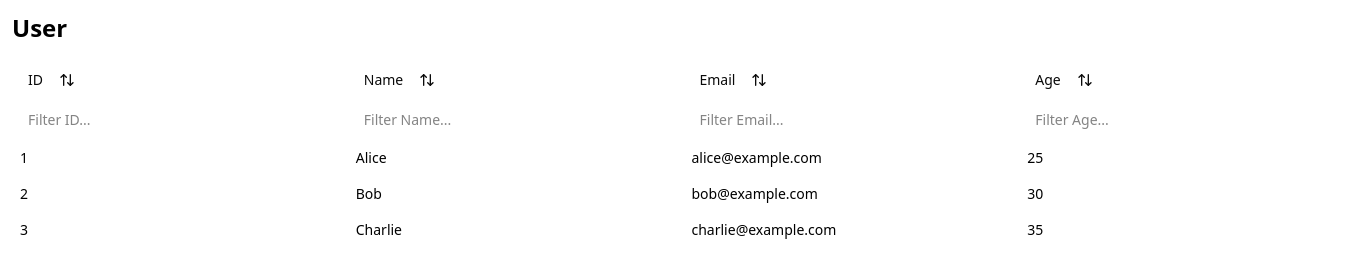
Test: ListView - Table Filtering › should filter by single column - Requirement 36.2
The width and height of the screenshot is (1349, 265).
expect the text "Alice" is shown: met, box top-left (348, 140), bottom-right (684, 176)
expect the text "Bob" is shown: met, box top-left (348, 176), bottom-right (684, 212)
Note: Filter by name
Step 1. Type "Alice" into the field with placeholder "Filter Name..." → (516,120), box top-left (356, 106), bottom-right (676, 134)
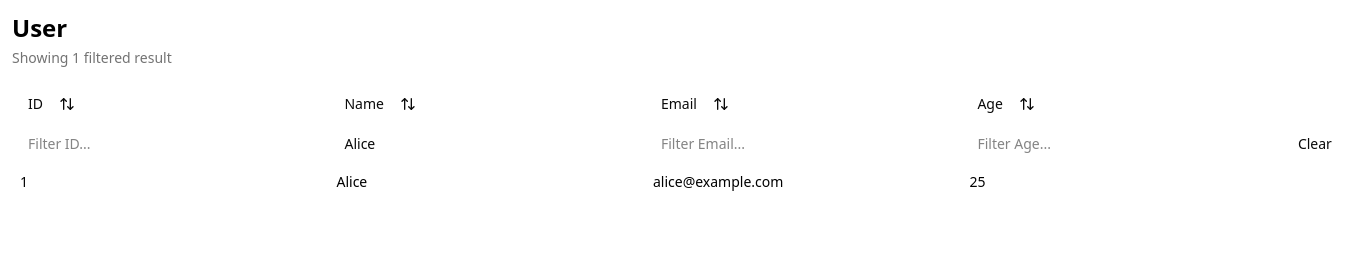
expect the text "Alice" is shown: met, box top-left (328, 164), bottom-right (645, 200)
expect the text "Bob" is gone: met
expect the text "Charlie" is gone: met
